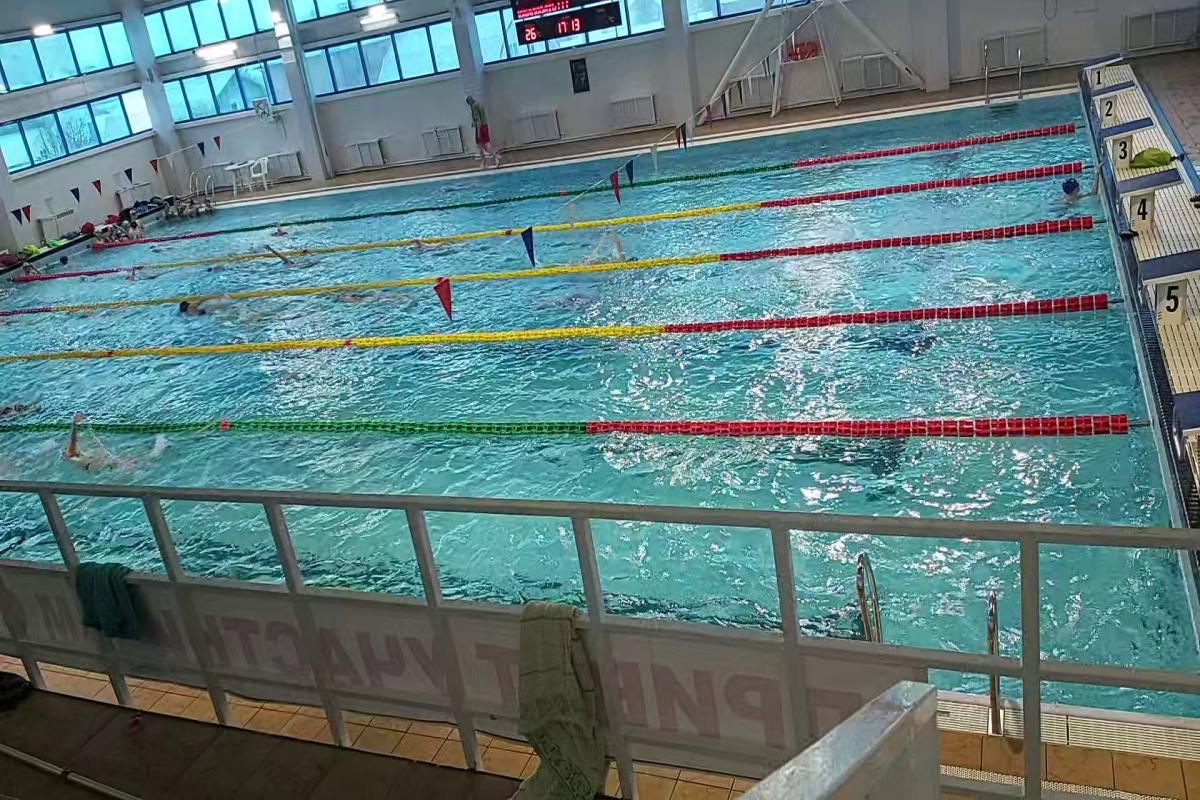swimmer: (51, 429, 149, 478), (172, 296, 232, 324), (1051, 172, 1093, 210), (603, 235, 644, 263)
